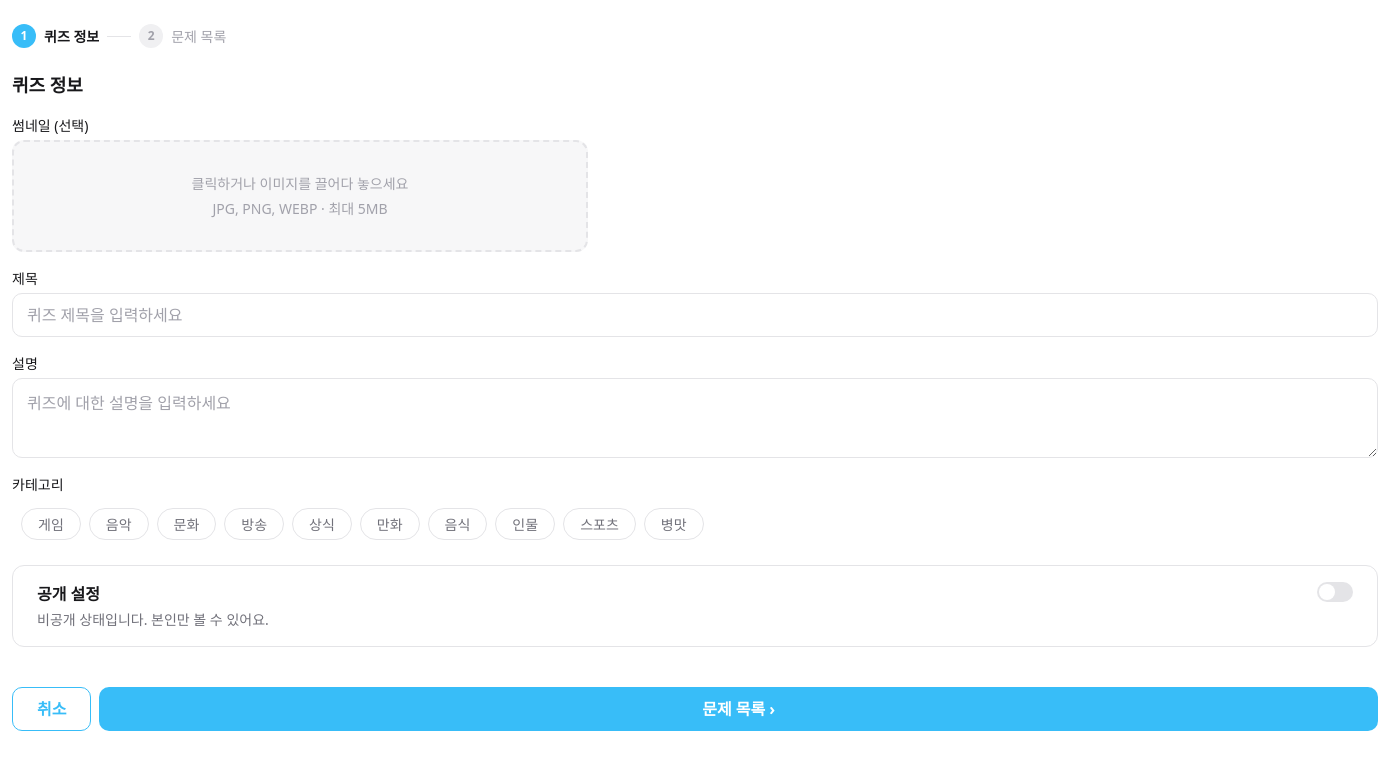
Test case: QuizCreatePage › STEP 1 → STEP 2 전환 › fillInfo 후 "문제 목록 ›" 클릭 → step="questions" 전환
This screenshot has width=1390, height=768.
Step 1. Type "테스트 제목" into the field with placeholder "퀴즈 제목을 입력하세요" → {"x": 695, "y": 315}, box [12, 293, 1378, 337]
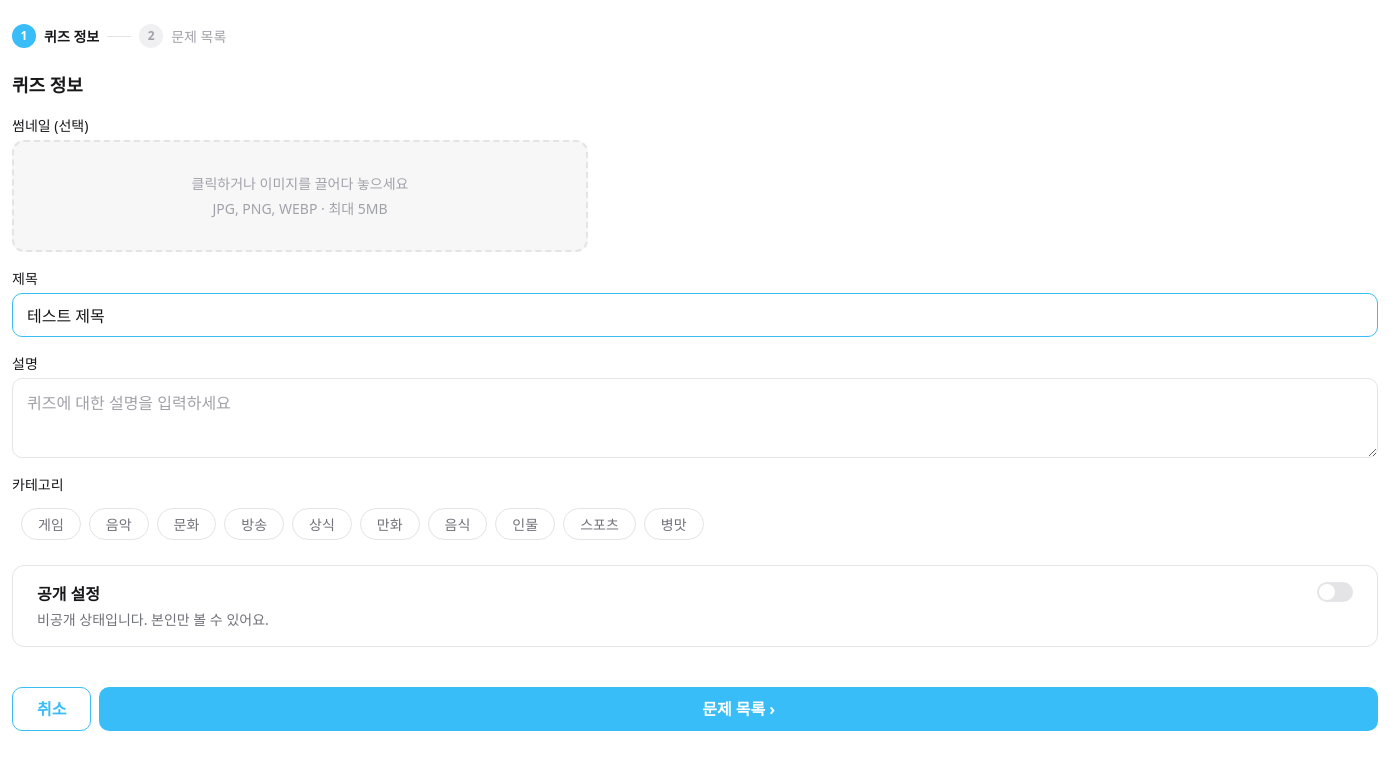
Step 2. Type "설명" into the text box with placeholder "퀴즈에 대한 설명을 입력하세요" → {"x": 695, "y": 418}, box [12, 378, 1378, 458]
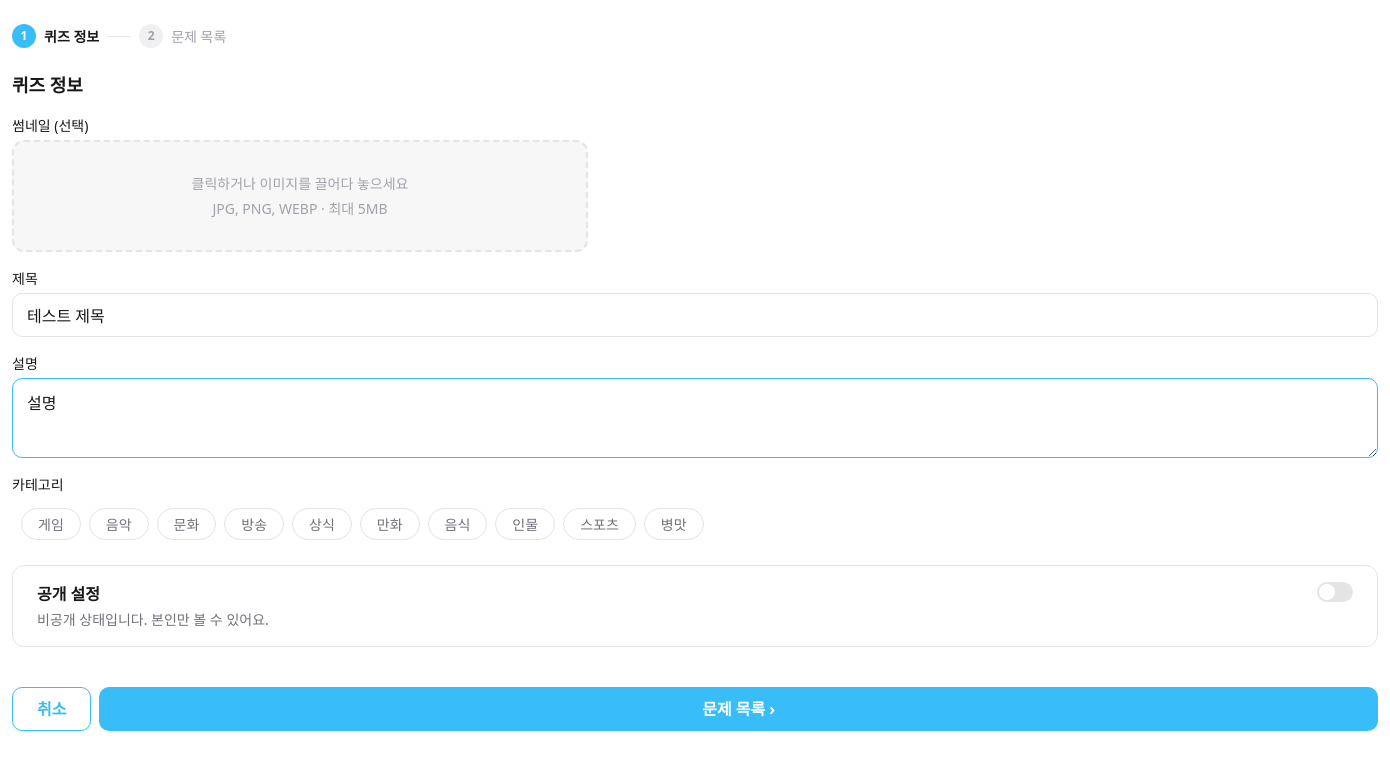
Step 3. Click the button "게임" → {"x": 51, "y": 524}, box [21, 508, 81, 540]
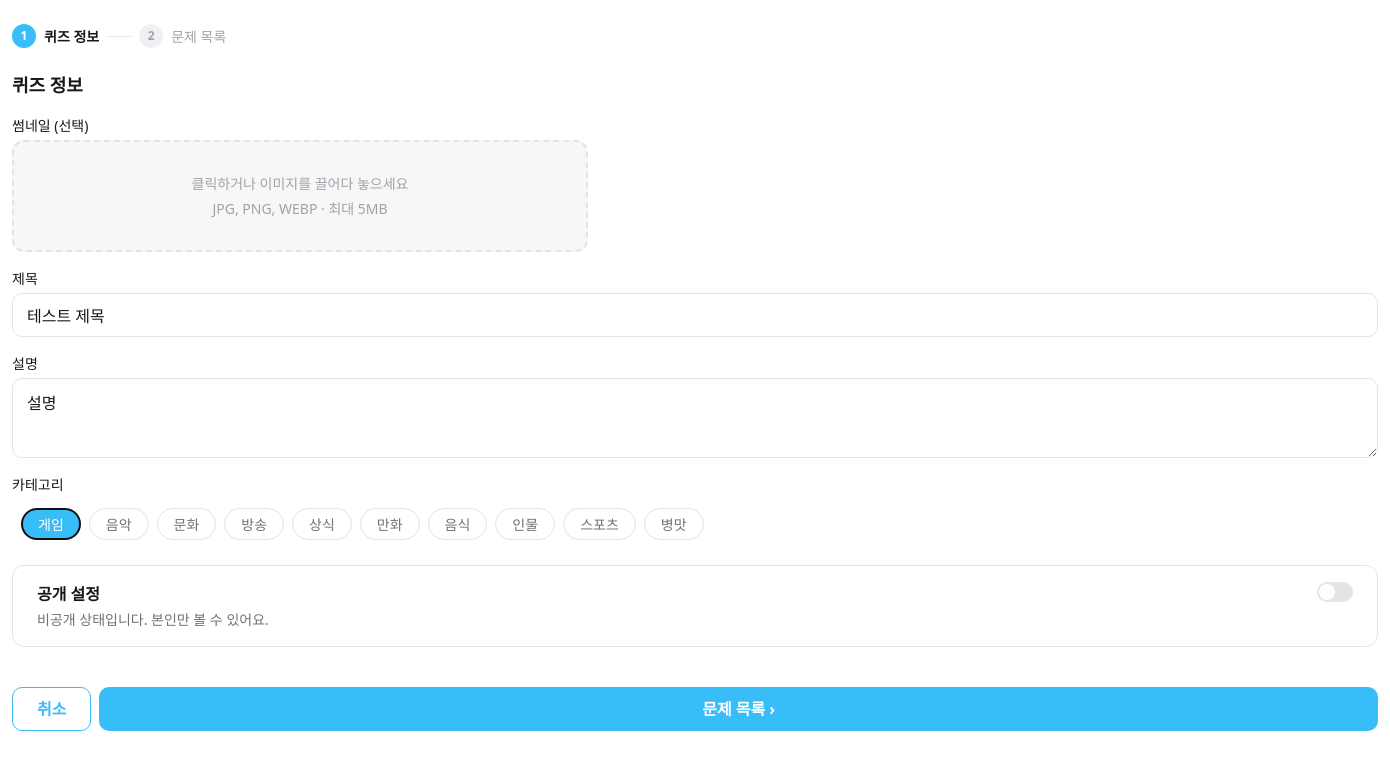
Step 4. Click the button "문제 목록 ›" → {"x": 739, "y": 709}, box [100, 687, 1378, 731]
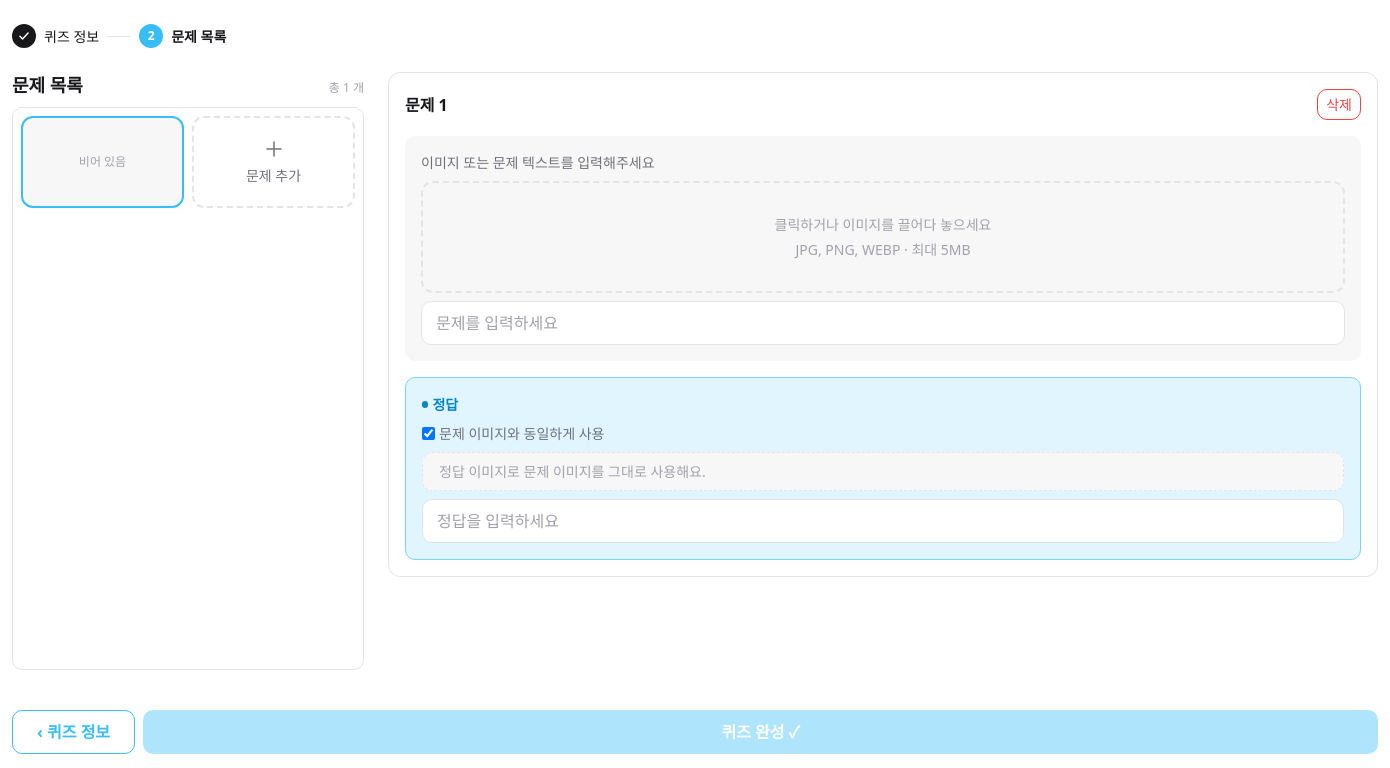
Check: the button "퀴즈 완성 ✓" is shown, box [143, 710, 1378, 754]
Check: the button "‹ 퀴즈 정보" is shown, box [12, 710, 135, 754]
Check: the button "문제 목록 ›" is gone
